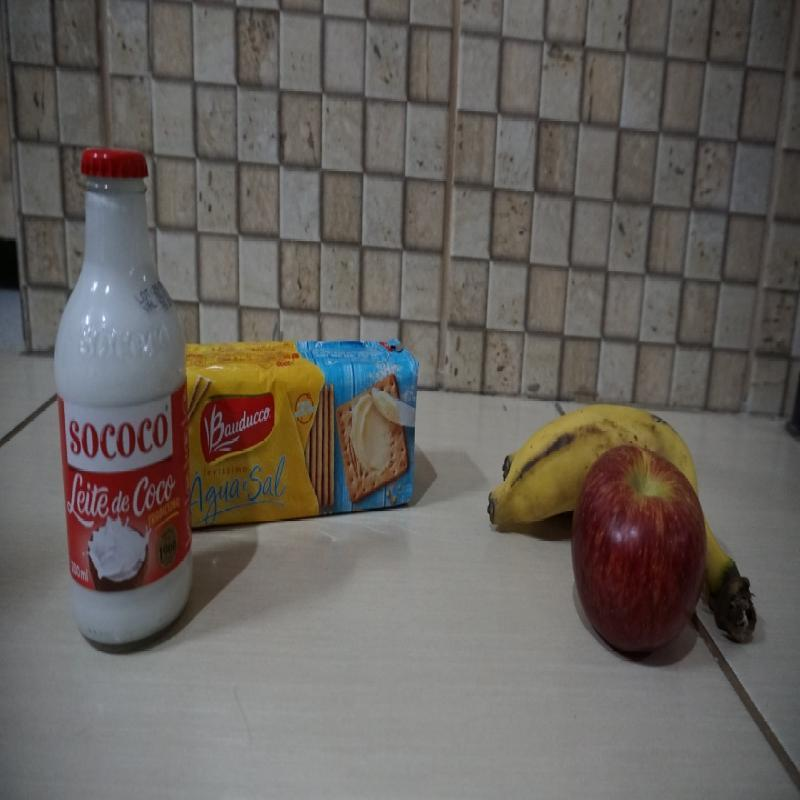Apple: (570, 443, 708, 664)
Banana: (485, 408, 594, 536)
Coconut Milk: (52, 147, 192, 652)
Cracker: (181, 339, 419, 530)
